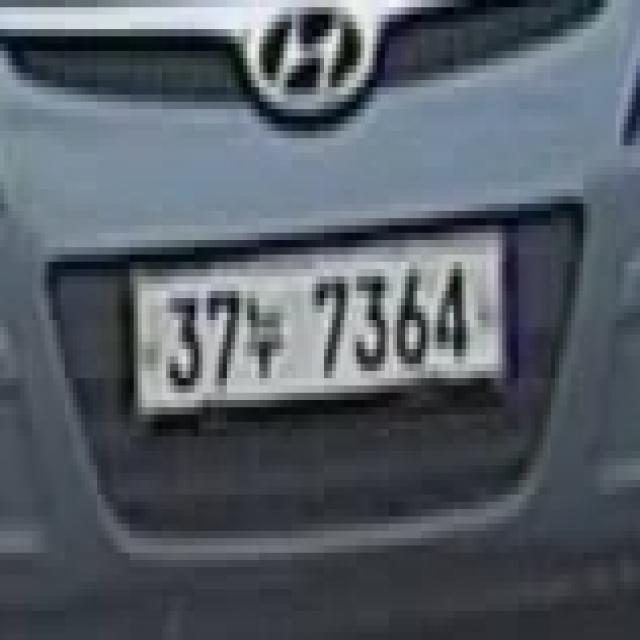3: (352, 269, 389, 371), (166, 291, 203, 385)
4: (429, 254, 470, 364)
6: (393, 269, 429, 378)
7: (207, 284, 239, 392), (316, 269, 348, 371)
license_plate: (126, 218, 514, 429)
nu: (243, 291, 284, 385)
